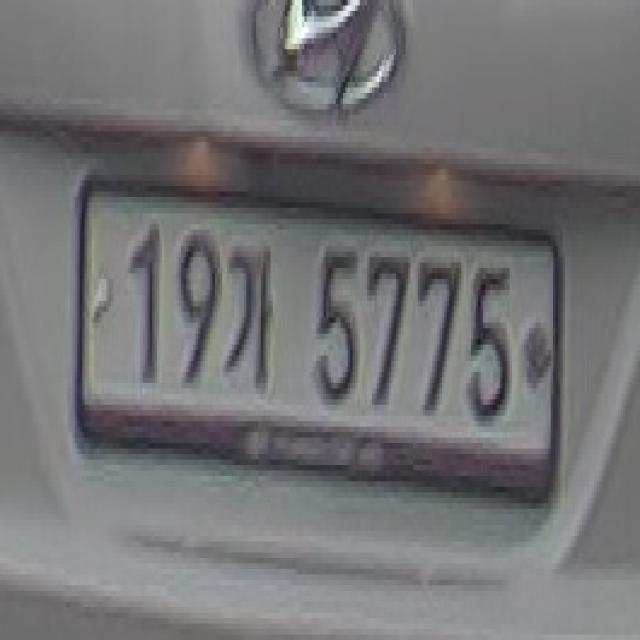1: (126, 214, 166, 410)
5: (309, 230, 360, 416), (466, 263, 515, 432)
7: (360, 241, 410, 421), (413, 257, 464, 432)
9: (171, 224, 220, 400)
ga: (222, 235, 278, 405)
license_plate: (75, 170, 565, 520)
